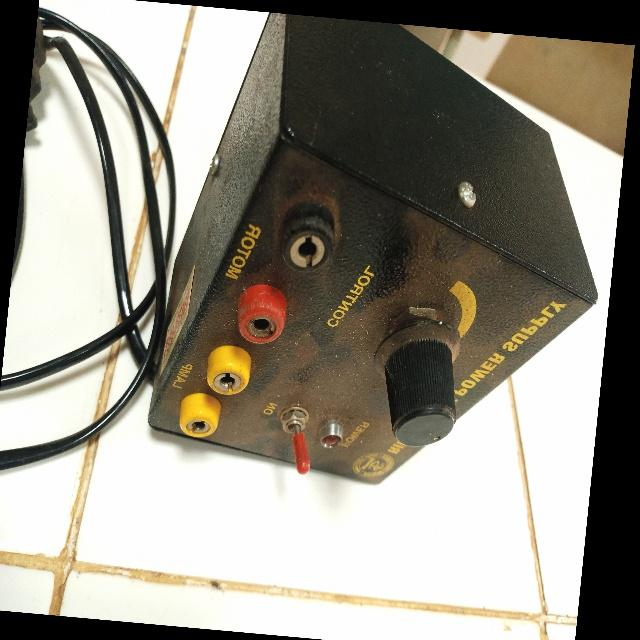Ripple Tank Power Supply: (132, 4, 630, 518)
